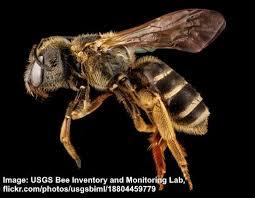Meliponula: (15, 6, 225, 166)
